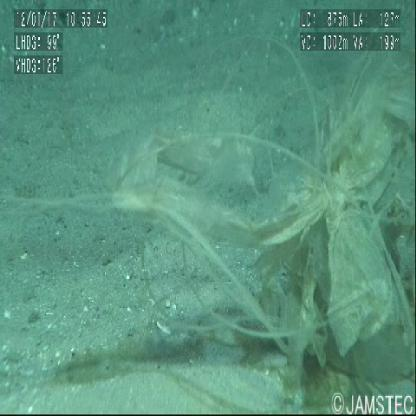Rác: (103, 116, 415, 402)
